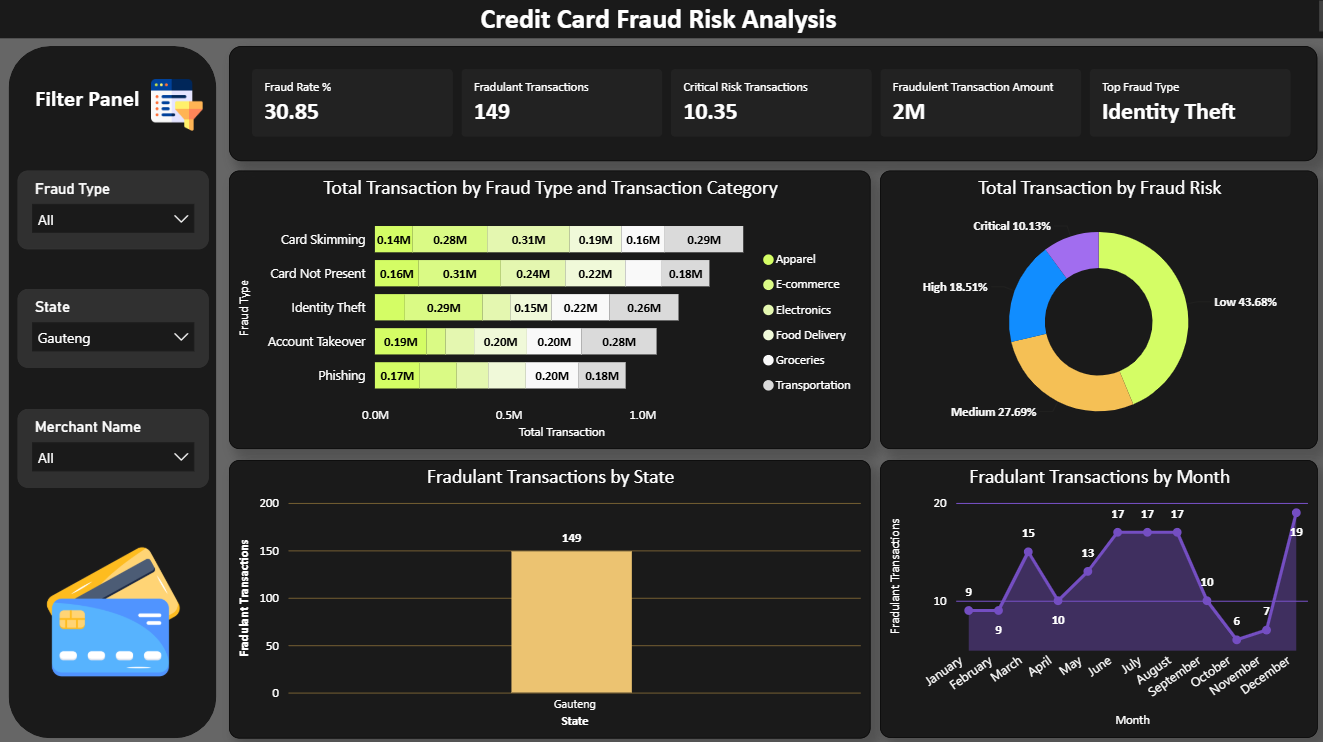

The dashboard page shown, as its layout file describes it:
{"tool":"powerbi","page":{"name":"Page 1","canvas":[1280,720],"ordinal":0},"visuals":[{"type":"textbox","box":[0,0,1280.2,41.3],"z":0},{"type":"shape","box":[16.1,48.4,198.6,661.2],"z":1000},{"type":"group","id":"g1","title":"Group 1","box":[30.2,79.6,171.3,55.4],"z":2000},{"type":"textbox","box":[30.2,79.6,122,55.4],"z":2000,"group":"g1"},{"type":"image","box":[152.1,80.3,49.4,49.9],"z":2501,"group":"g1"},{"type":"barChart","fields":{"Category":["Credit Card Fraud Risk Analysis.Fraud Type"],"Y":["Credit Card Fraud Risk Analysis.Total_Transaction"],"Series":["Credit Card Fraud Risk Analysis.Transaction Category"]},"box":[226.8,167.3,612.8,266.1],"z":3000},{"type":"donutChart","fields":{"Y":["Credit Card Fraud Risk Analysis.Total_Transaction"],"Category":["Credit Card Fraud Risk Analysis.Fraud Risk"]},"box":[847.6,167.3,418.3,266.1],"z":4000},{"type":"columnChart","fields":{"Category":["Credit Card Fraud Risk Analysis.State"],"Y":["Credit Card Fraud Risk Analysis.Fradulant Transactions"]},"box":[226.8,443.5,612.8,266.1],"z":5000},{"type":"lineChart","fields":{"Y":["Credit Card Fraud Risk Analysis.Fradulant Transactions"],"Category":["Credit Card Fraud Risk Analysis.Transaction Date.Variation.Date Hierarchy.Month"]},"box":[847.6,443.5,418.3,265.1],"z":6000},{"type":"slicer","fields":{"Values":["Credit Card Fraud Risk Analysis.Fraud Type"]},"box":[24.2,167.3,182.4,75.6],"z":7000},{"type":"slicer","fields":{"Values":["Credit Card Fraud Risk Analysis.State"]},"box":[24.2,281.2,182.4,75.6],"z":8000},{"type":"slicer","fields":{"Values":["Credit Card Fraud Risk Analysis.Merchant Name"]},"box":[24.2,395.1,182.4,75.6],"z":9000},{"type":"image","box":[27.2,521.1,177.4,135.1],"z":10000},{"type":"cardVisual","fields":{"Data":["Credit Card Fraud Risk Analysis.Fraud Rate %","Credit Card Fraud Risk Analysis.Fradulant Transactions","Credit Card Fraud Risk Analysis.Critical Risk Transactions","Credit Card Fraud Risk Analysis.Fraudulent Transaction Amount","Credit Card Fraud Risk Analysis.Top_Fraud_Type"]},"box":[226.8,48.4,1039.1,109.9],"z":11000}]}

Visuals, with their boxes in screenshot pixels (x1, y1, x2, y2), scaled from the page's 1280x720 canvas onto the 1323x742 screenshot:
textbox: <region>0, 0, 1322, 43</region>
shape: <region>17, 50, 222, 731</region>
"Group 1" group: <region>31, 82, 208, 139</region>
textbox: <region>31, 82, 157, 139</region>
image: <region>157, 83, 208, 134</region>
barChart - Credit Card Fraud Risk Analysis.Fraud Type x Credit Card Fraud Risk Analysis.Total_Transaction: <region>234, 172, 868, 447</region>
donutChart - Credit Card Fraud Risk Analysis.Total_Transaction x Credit Card Fraud Risk Analysis.Fraud Risk: <region>876, 172, 1308, 447</region>
columnChart - Credit Card Fraud Risk Analysis.State x Credit Card Fraud Risk Analysis.Fradulant Transactions: <region>234, 457, 868, 731</region>
lineChart - Credit Card Fraud Risk Analysis.Fradulant Transactions x Credit Card Fraud Risk Analysis.Transaction Date.Variation.Date Hierarchy.Month: <region>876, 457, 1308, 730</region>
slicer - Credit Card Fraud Risk Analysis.Fraud Type: <region>25, 172, 214, 250</region>
slicer - Credit Card Fraud Risk Analysis.State: <region>25, 290, 214, 368</region>
slicer - Credit Card Fraud Risk Analysis.Merchant Name: <region>25, 407, 214, 485</region>
image: <region>28, 537, 211, 676</region>
cardVisual - Credit Card Fraud Risk Analysis.Fraud Rate % x Credit Card Fraud Risk Analysis.Fradulant Transactions: <region>234, 50, 1308, 163</region>
